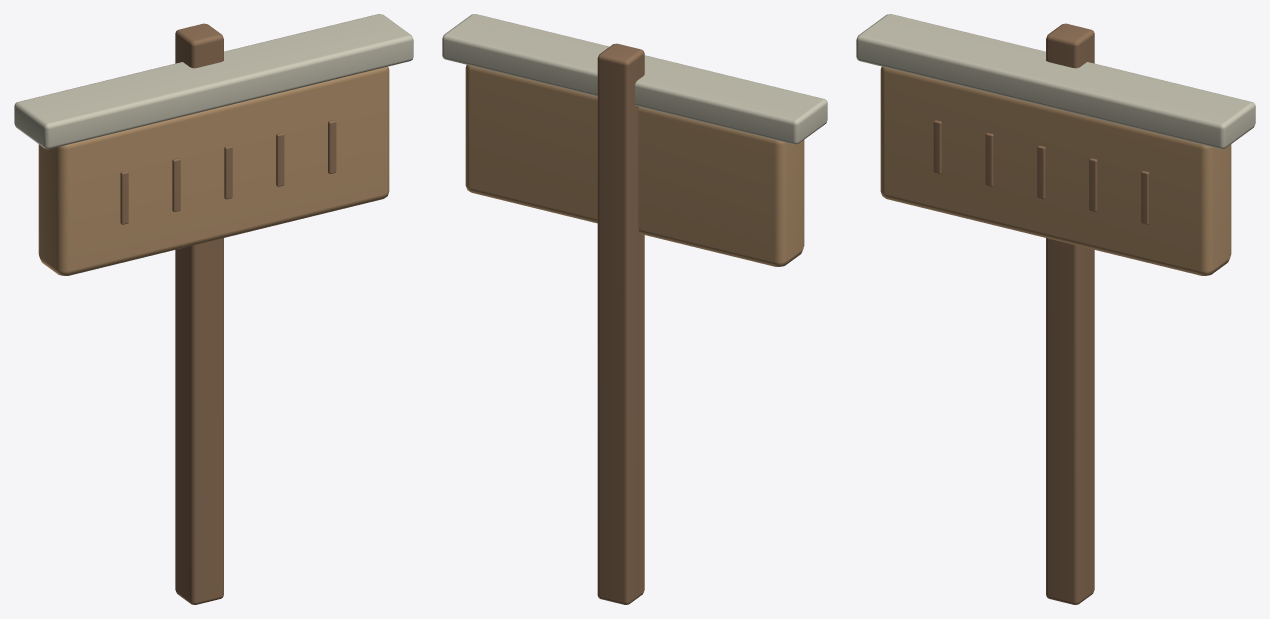
The model's file is SM_Signpost_01.fbx.
3 views of the same model, side by side, from view 1: azimuth 30°, elevation 25°; view 2: azimuth 150°, elevation 25°; view 3: azimuth 330°, elevation 25° (orthographic). The views are drawn at different scales.
Visible parts, largest first — view 1: SM_Signpost_01; view 2: SM_Signpost_01; view 3: SM_Signpost_01.
Boxes of the visible parts, x1,y1,x2,y2 form: SM_Signpost_01: (14, 14, 413, 604); SM_Signpost_01: (442, 14, 827, 604); SM_Signpost_01: (856, 14, 1255, 604).
Bounding box in the file's own units: 1.78 × 2.6 × 0.34.
